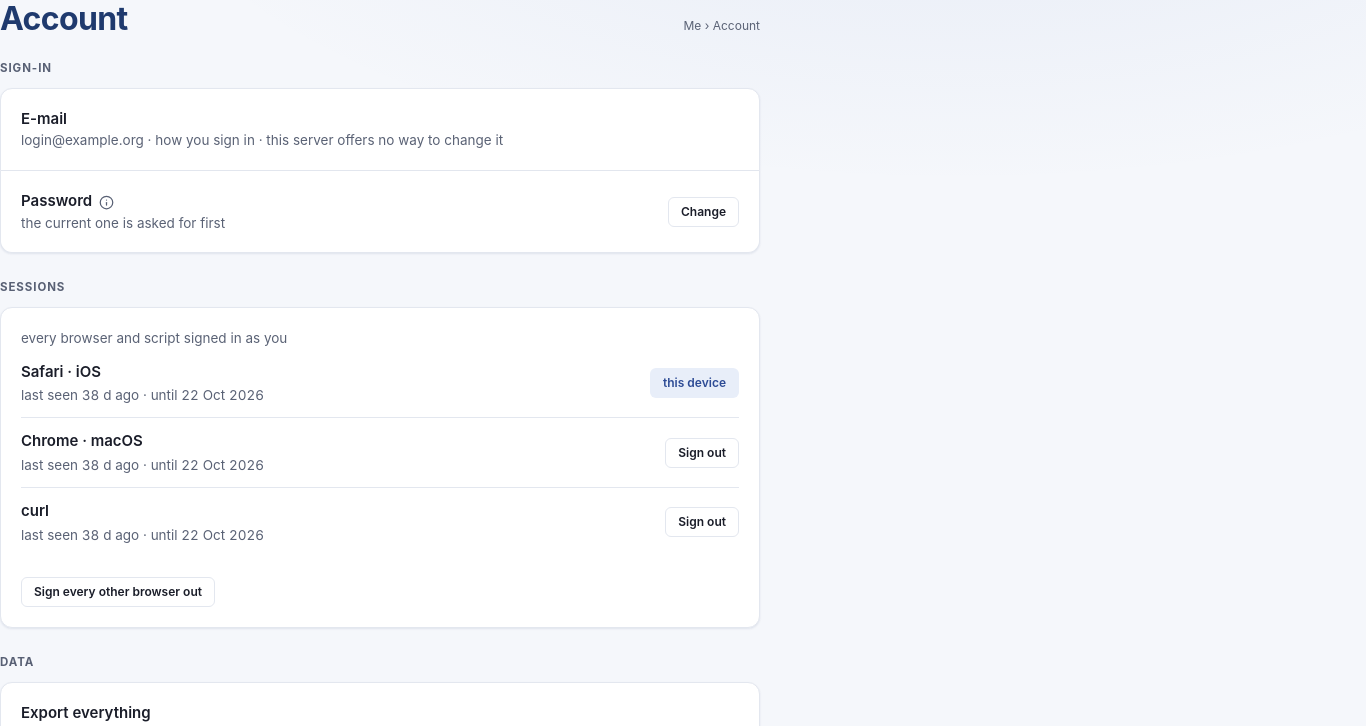
it: where this person is signed in › signs every other browser out in one act, and keeps this one
Check: the text "login@example.org" is shown, box 21,132 -> 144,148
What coordinates should you click on to do the following:
click the button "Sign every other browser out"
I would click on:
 (118, 592)
Its box is 21,577 -> 215,607.
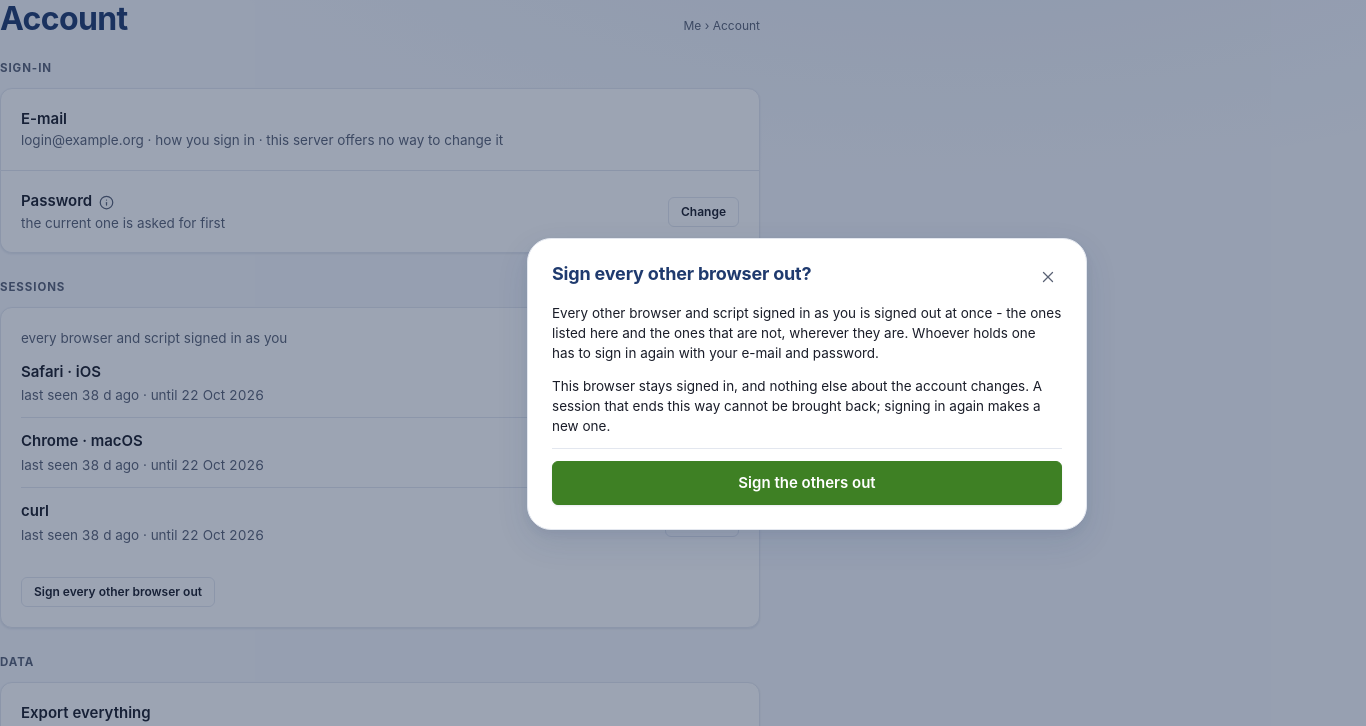
What coordinates should you click on to do the following:
click the button "Sign the others out"
I would click on:
 (807, 483)
Its box is 552,461 -> 1062,505.
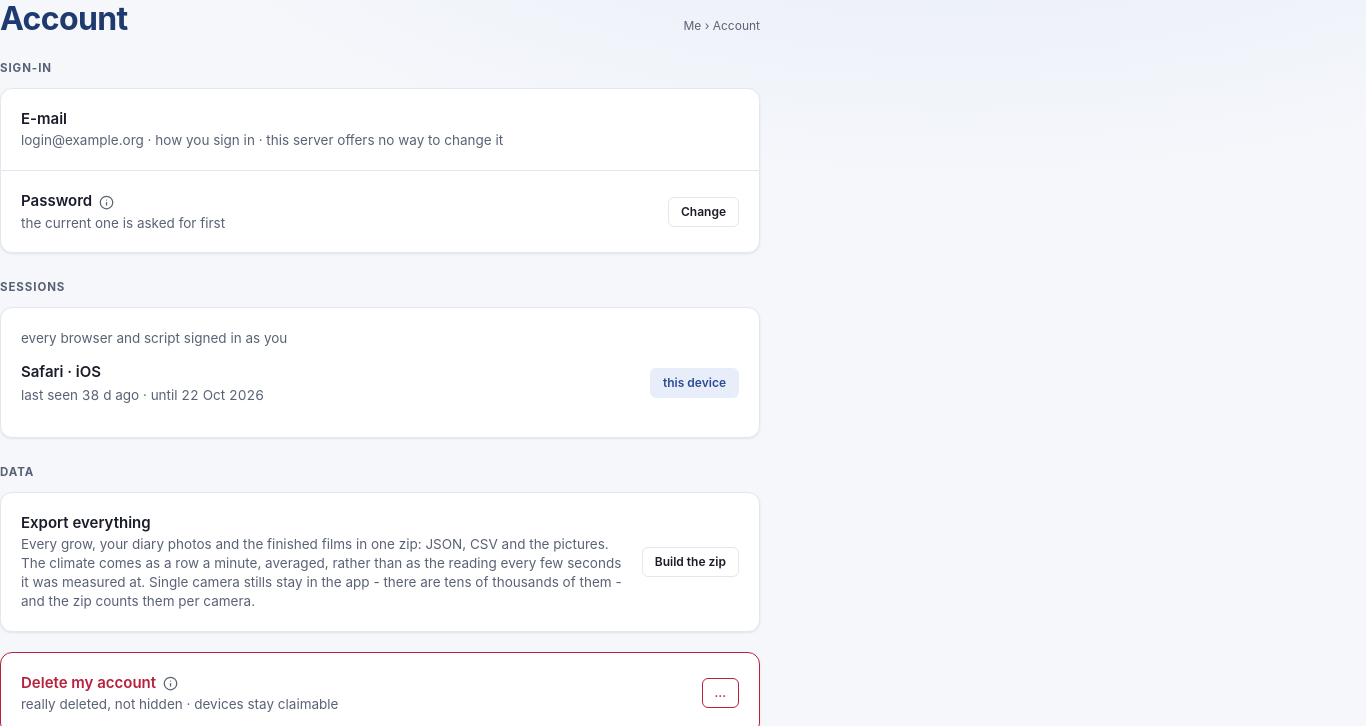
Check: the text "this device" is shown, box 650,368 -> 739,398
Check: the number of list items is 1, box 21,360 -> 739,417
Check: the dialog is gone
